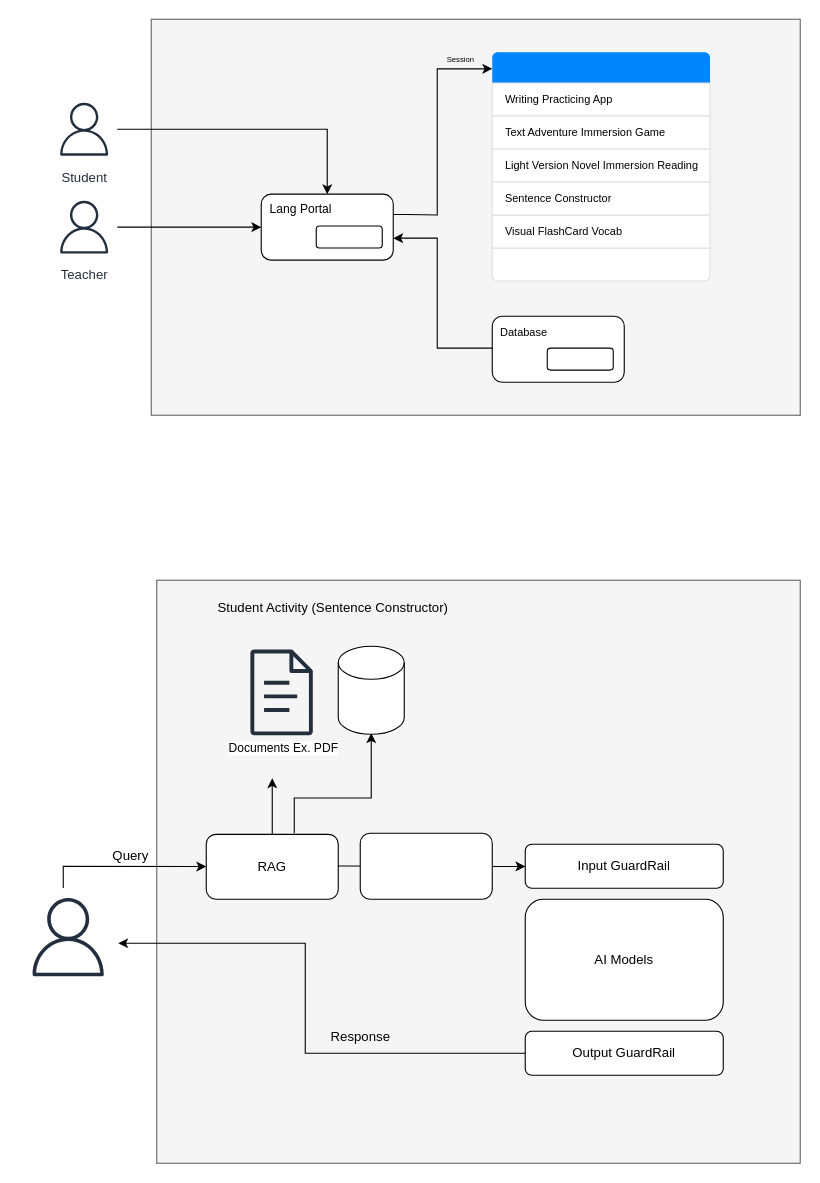
The diagram is 820 pixels wide and 1183 high, and some of its shapes have lost their labels. Here are the shapes that lost their labels. From the top down, the centre of each, then its label:
At pixel 601 67: "Student Activities".
At pixel 348 236: "Word Group".
At pixel 600 264: "Speak to learn".
At pixel 579 358: "Core 2000 words".
At pixel 370 689: "Vector Database".
At pixel 425 865: "Caching".
At pixel 67 936: "User".
